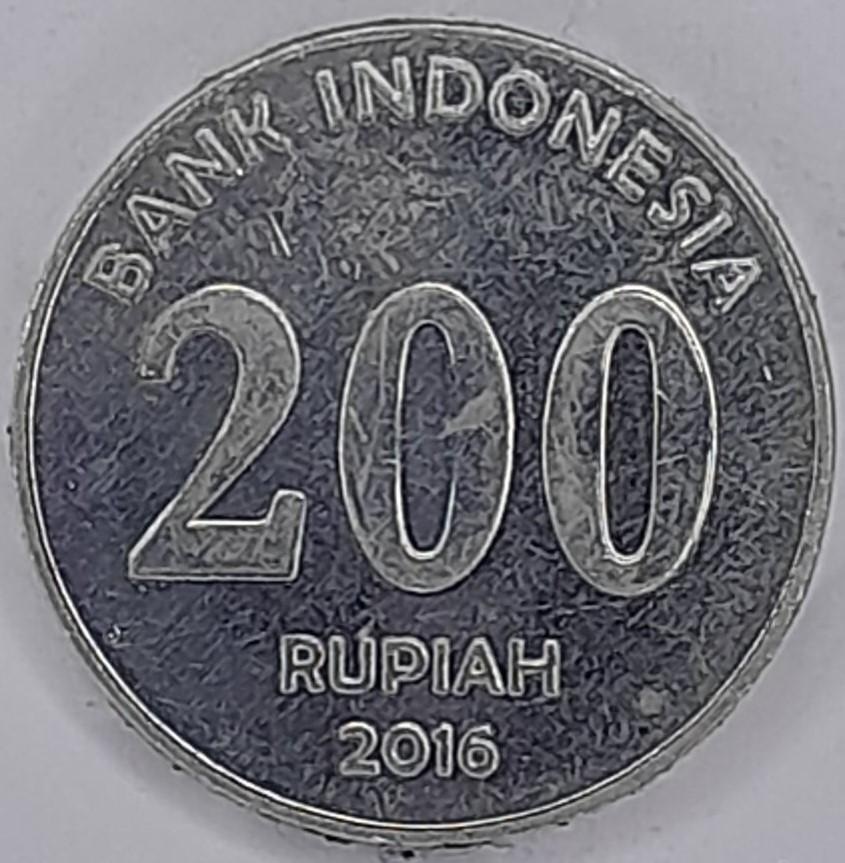coin_200_e2016: (0, 15, 845, 863)
